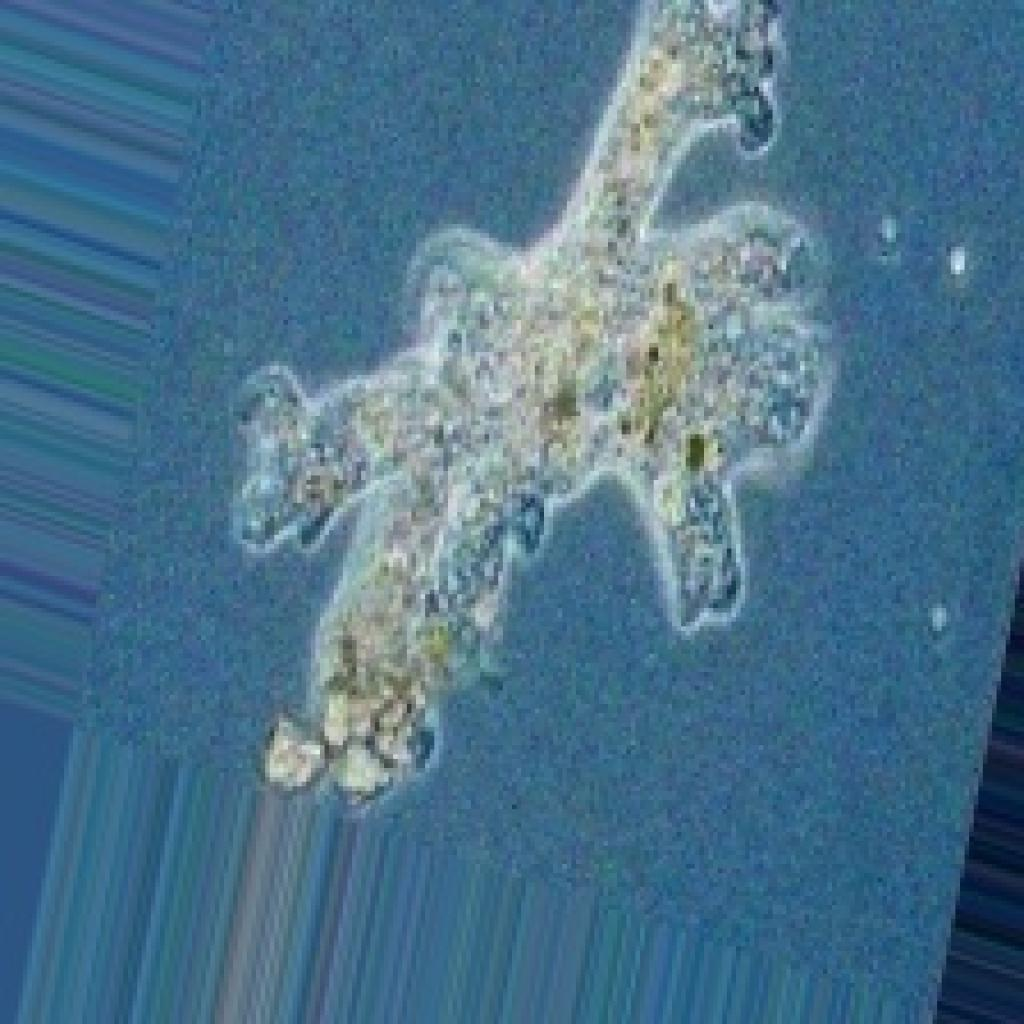Amoeba: (224, 0, 846, 814)
